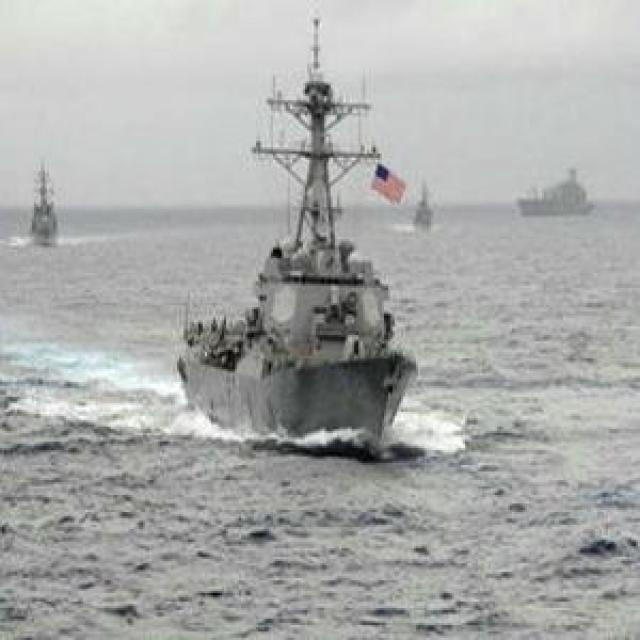navalvessels: (170, 52, 421, 456), (488, 163, 625, 231), (12, 155, 76, 259), (403, 164, 433, 235)
